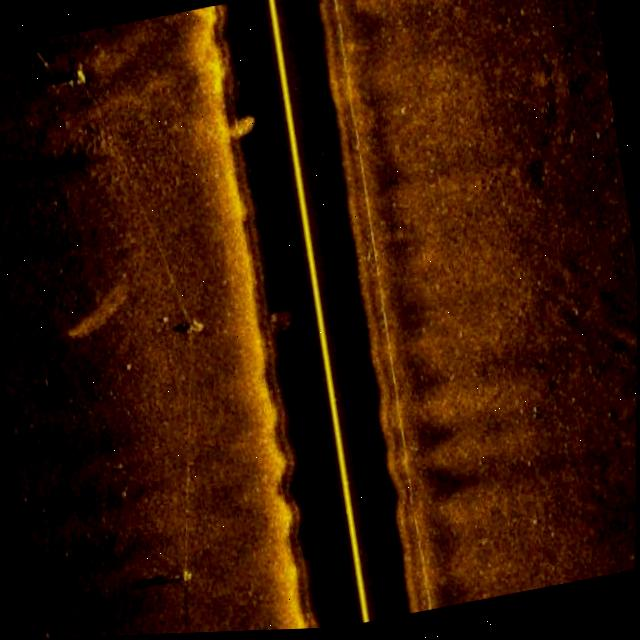mine: (61, 58, 92, 95), (181, 314, 211, 345), (169, 564, 196, 594)
